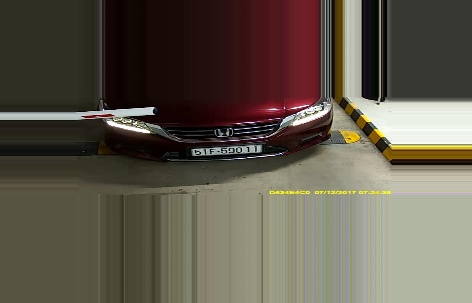plate: (191, 142, 264, 155)
